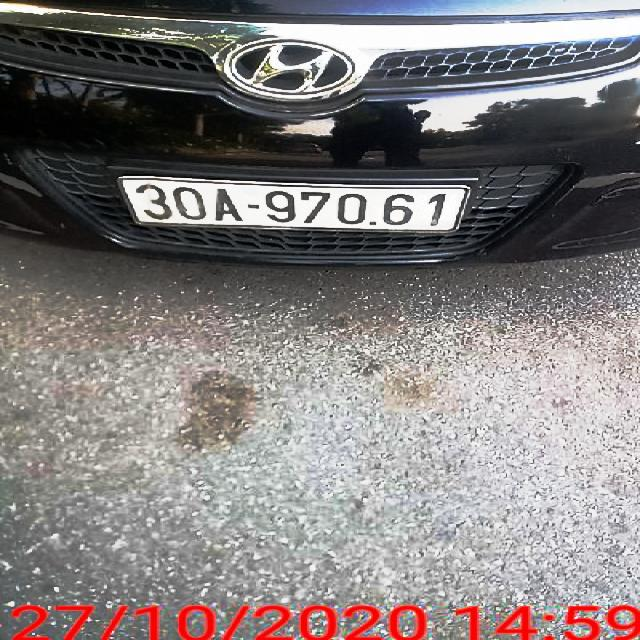license_plate: (120, 171, 471, 235)
